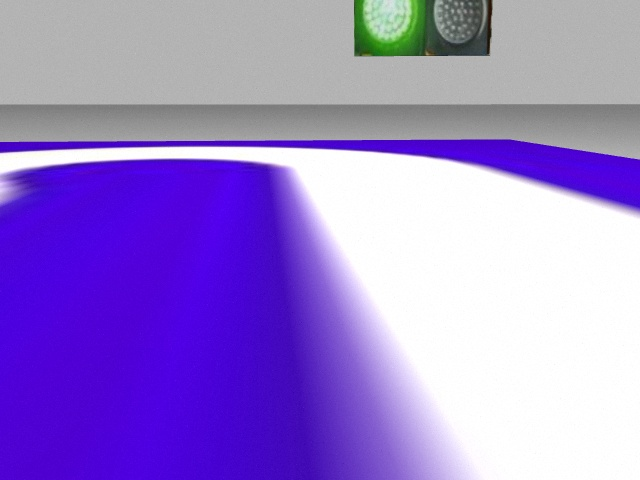green: (355, 1, 424, 56)
